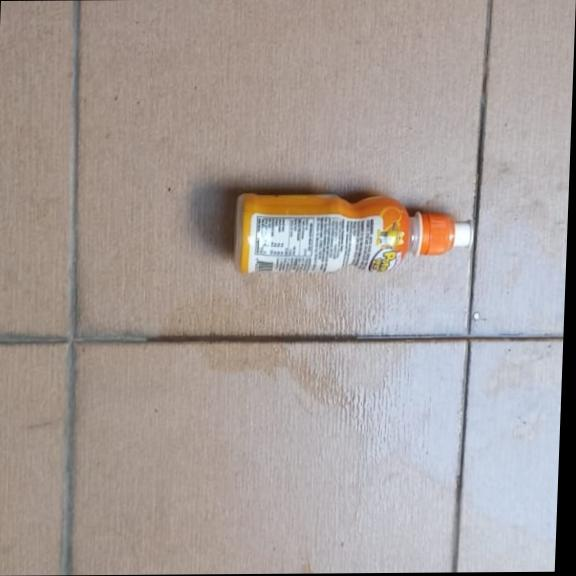Plastik: (232, 189, 475, 275)
